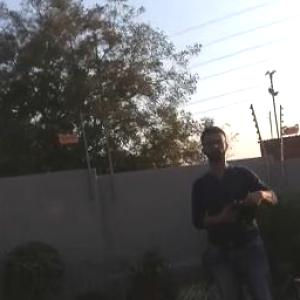follow: (182, 118, 287, 299)
